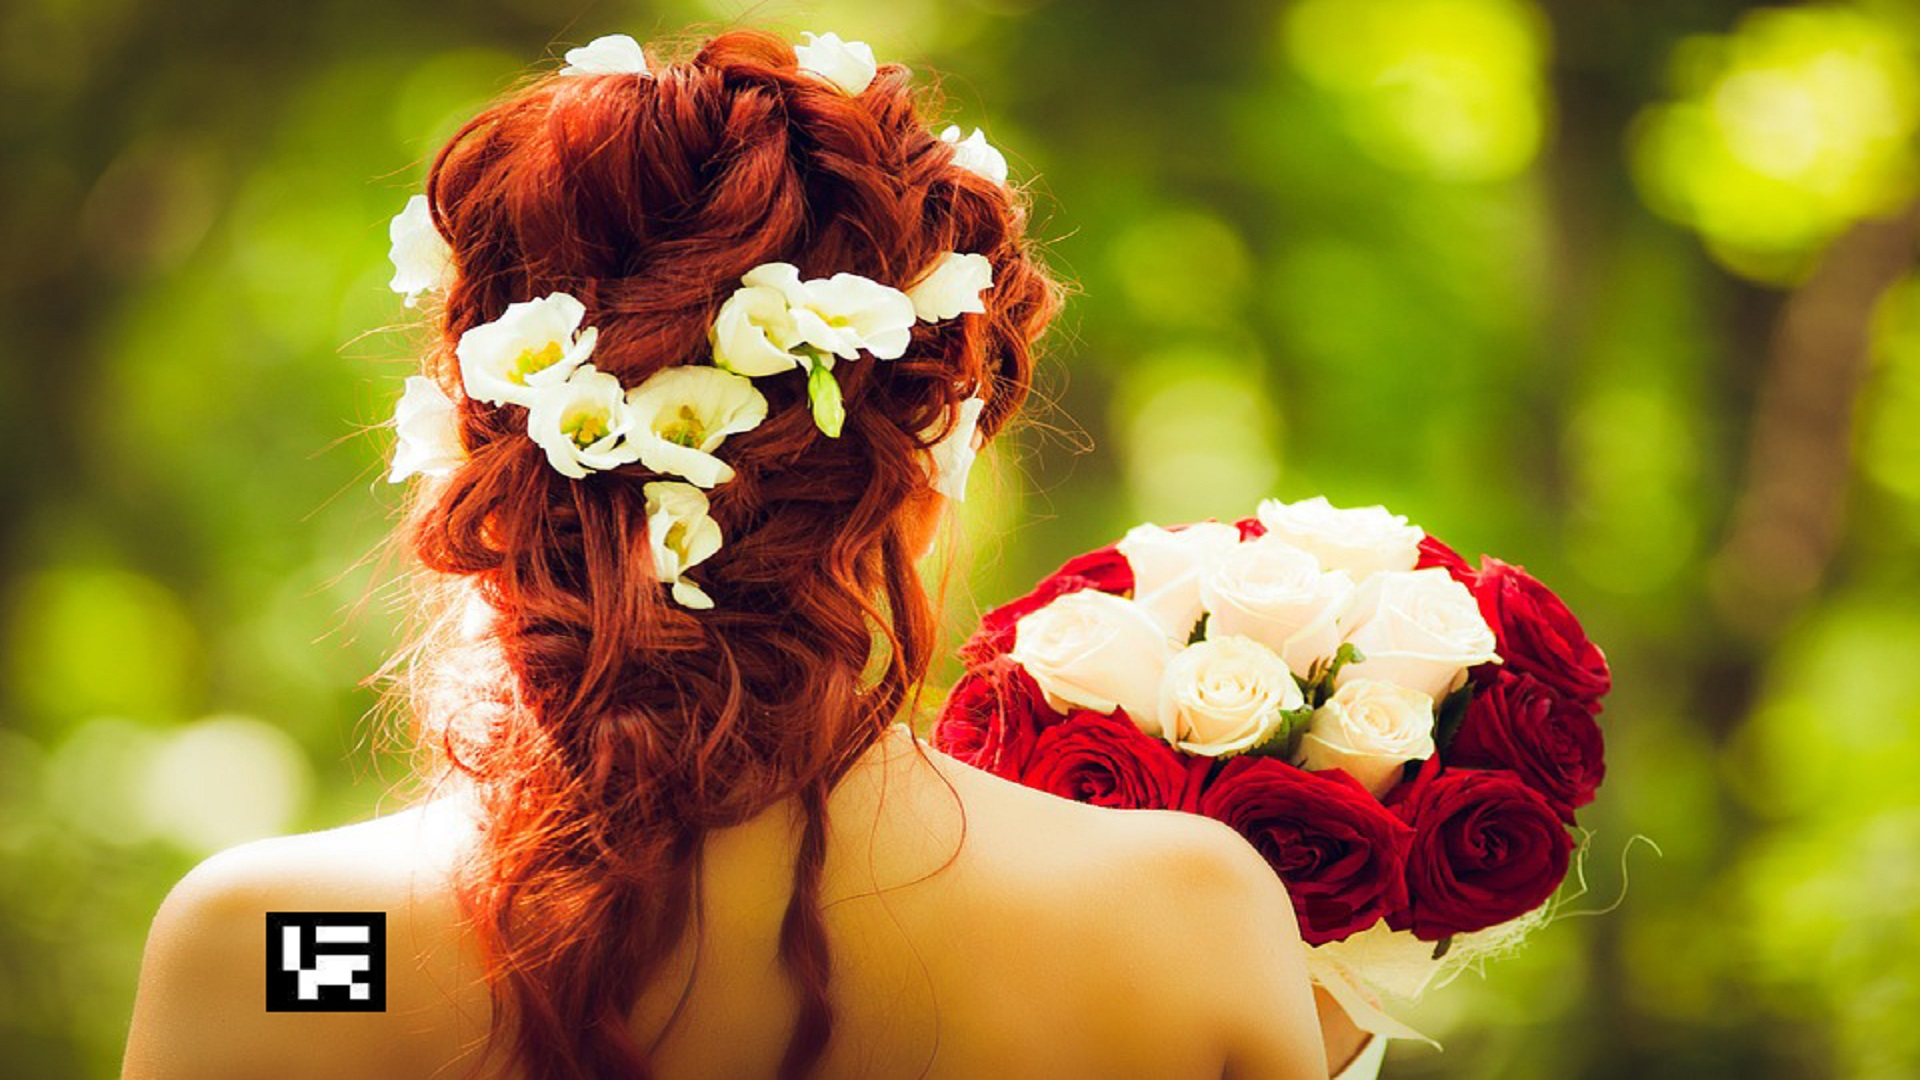marker: (261, 906, 393, 1019)
